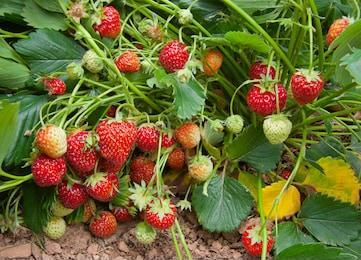Fresa: (93, 116, 136, 164), (64, 125, 103, 174), (28, 148, 70, 189), (245, 78, 287, 115), (239, 220, 277, 260), (52, 175, 92, 212), (84, 168, 122, 205), (290, 68, 326, 106), (142, 195, 177, 231), (90, 3, 122, 42), (158, 38, 191, 74), (136, 120, 162, 154), (114, 50, 144, 75)
